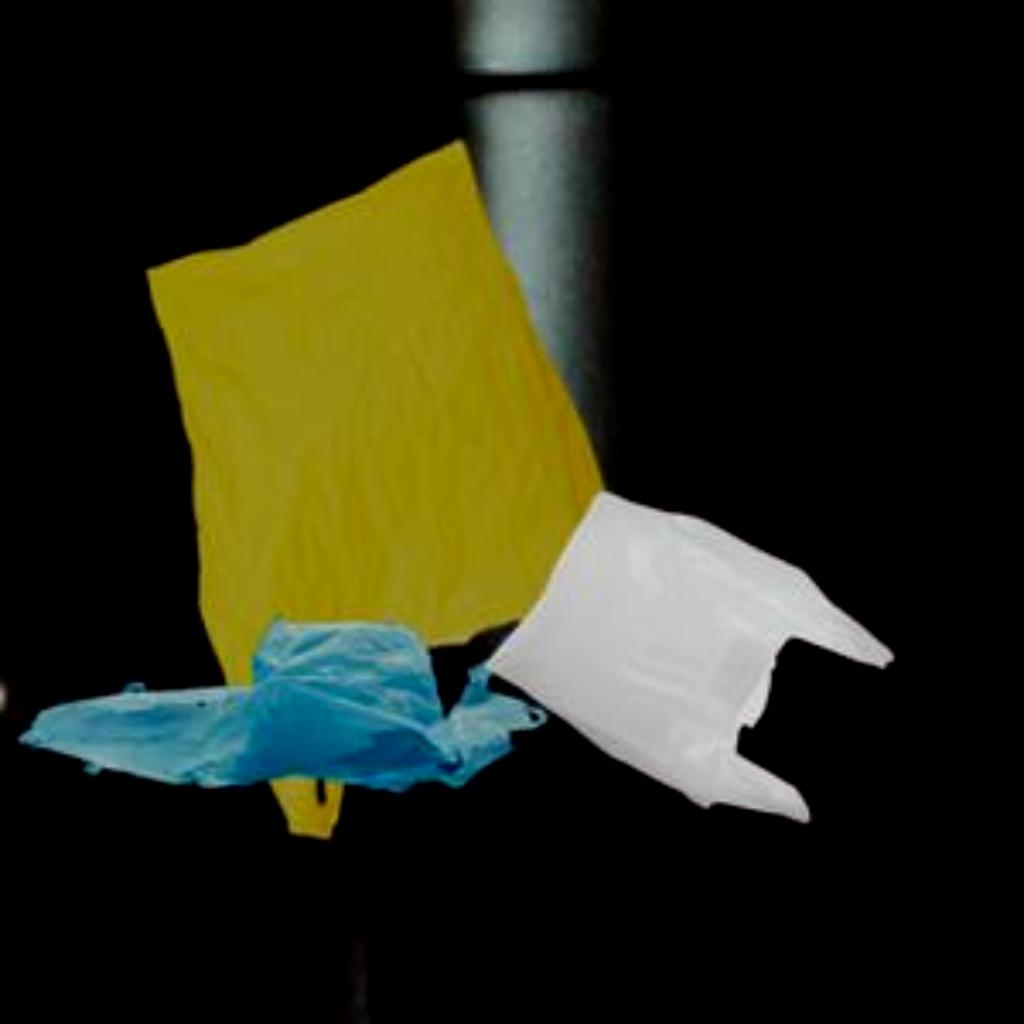garbage: (106, 137, 638, 720), (485, 457, 915, 843), (29, 592, 531, 858)
